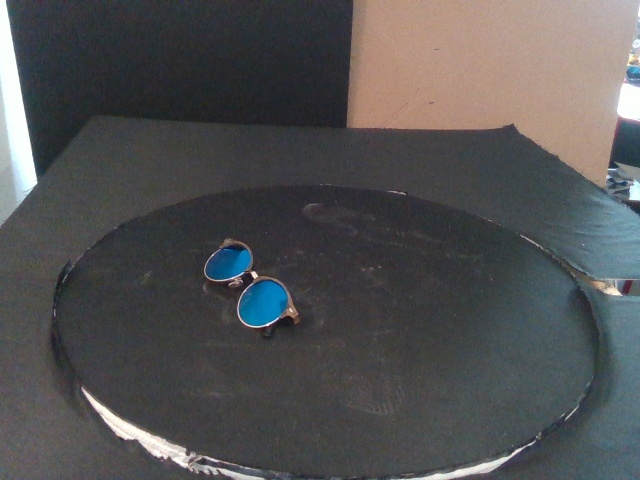glasses: (203, 238, 302, 339)
